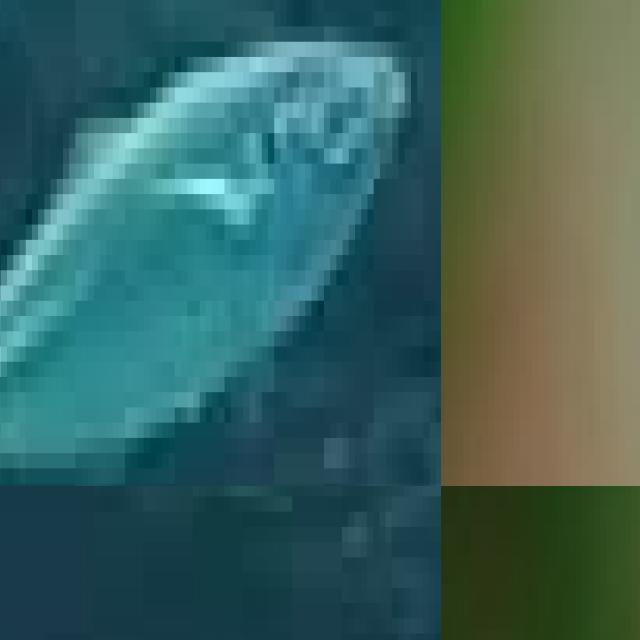fish: (0, 0, 441, 486), (441, 146, 556, 486)
